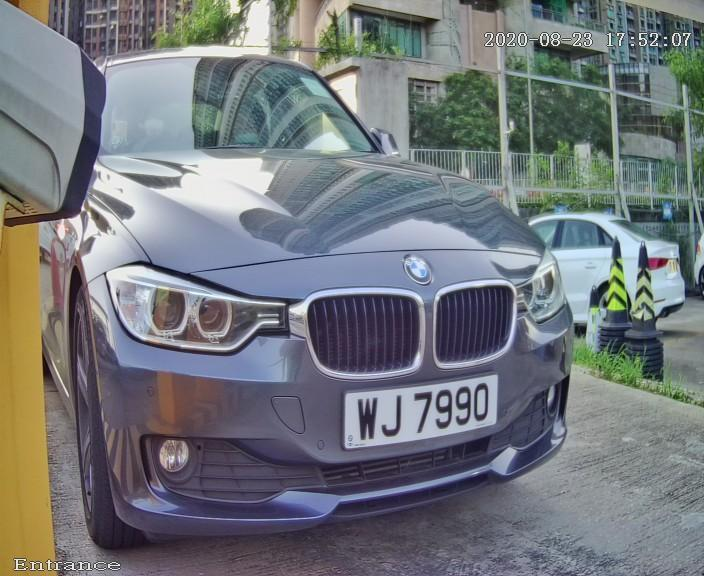Car: (19, 3, 626, 569)
License Plate: (313, 356, 529, 471)
